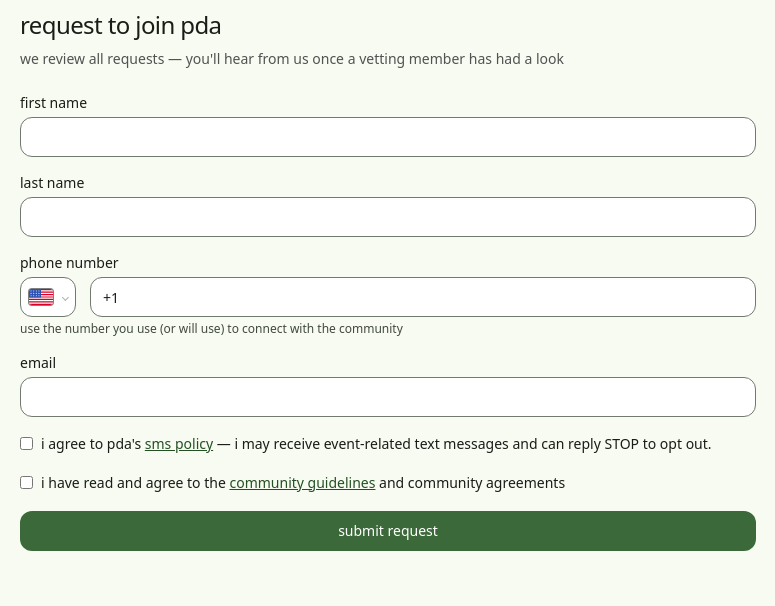
Test case: JoinScreen › shows error message on API submission failure
Type "Jane" into the field labelled "first name" at (388, 137), box left=20, top=117, right=756, bottom=157
Type "Smith" into the field labelled "last name" at (388, 217), box left=20, top=197, right=756, bottom=237
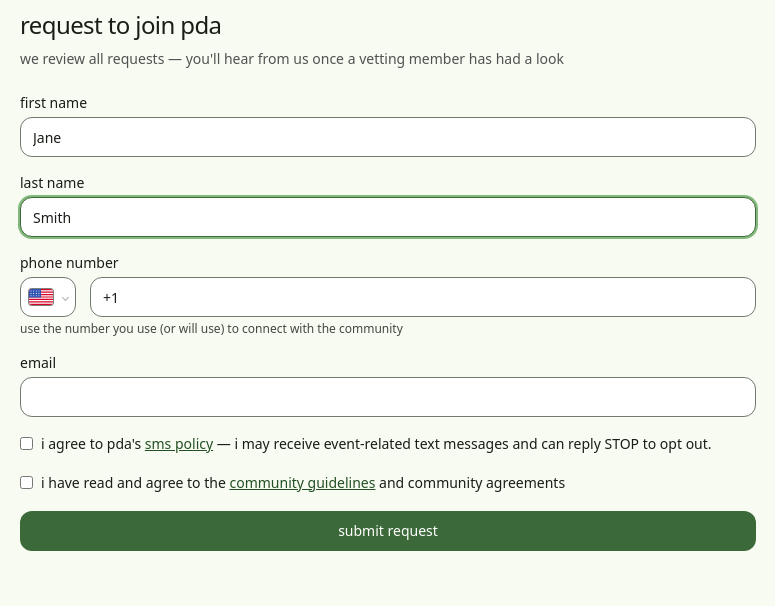
Replace the text in the field labelled "phone number" with "(555) 123-4567" at (423, 297), box left=90, top=277, right=756, bottom=317
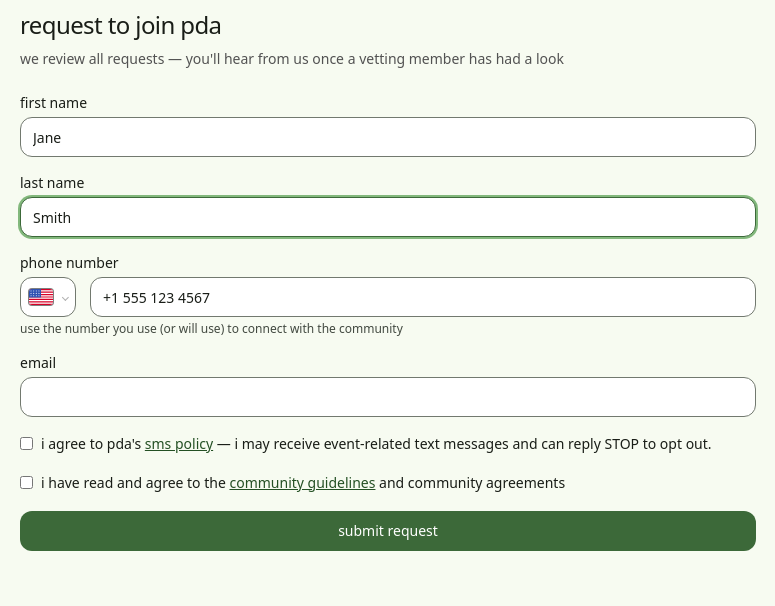
Type "jane@example.com" into the field labelled "email" at (388, 397), box left=20, top=377, right=756, bottom=417
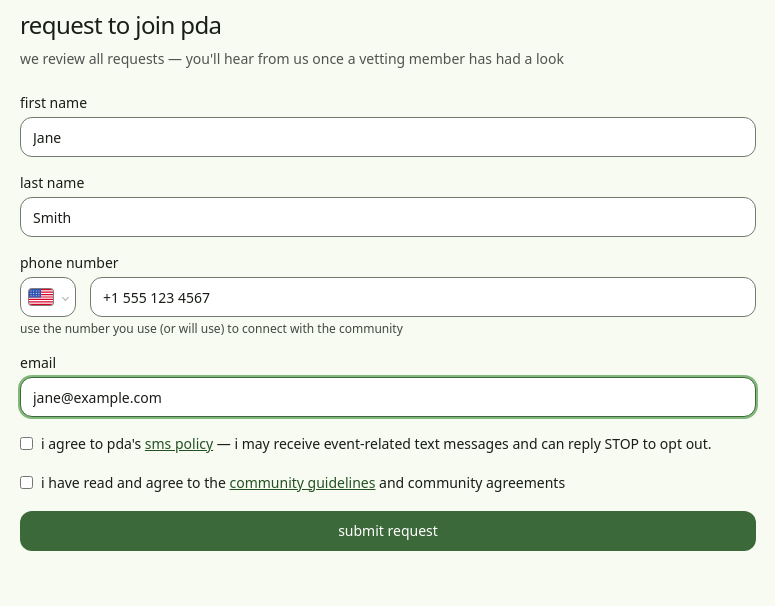
Click the checkbox labelled "sms policy" at (26, 444), box left=20, top=437, right=33, bottom=450
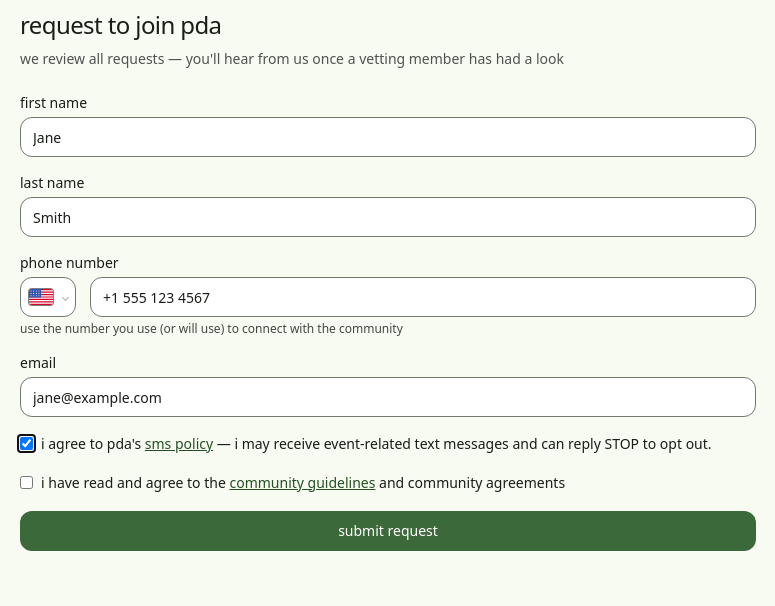
Click the checkbox labelled "community guidelines" at (26, 482), box left=20, top=476, right=33, bottom=489
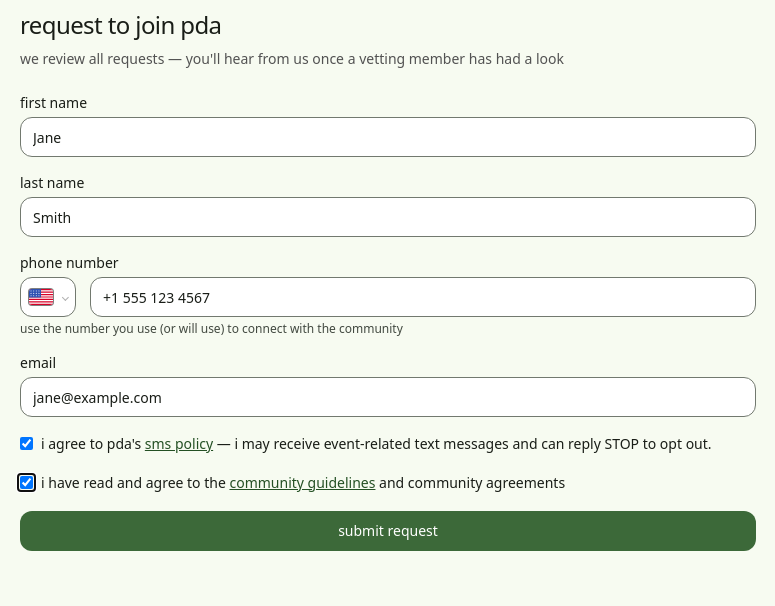
Click the button "submit request" at (388, 530), box left=20, top=510, right=756, bottom=550
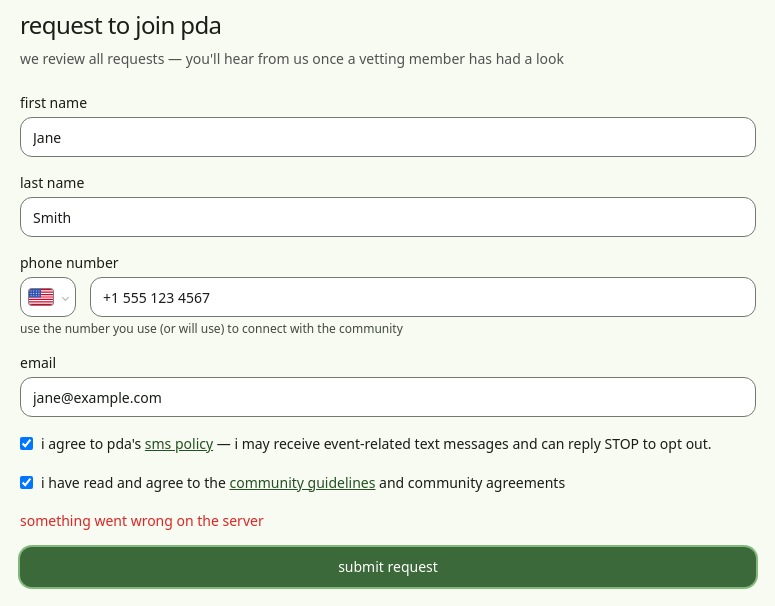
Check: the message reads "something went wrong on the server", box left=20, top=510, right=264, bottom=530
